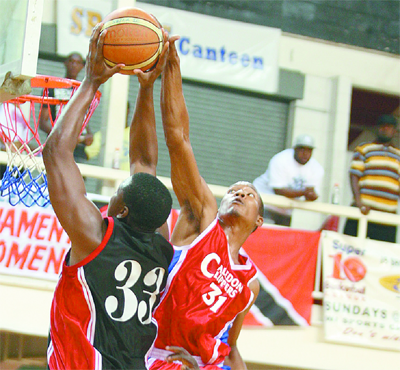ball: (95, 7, 166, 74)
basket: (1, 69, 102, 207)
player: (47, 30, 174, 370), (149, 40, 271, 370)
